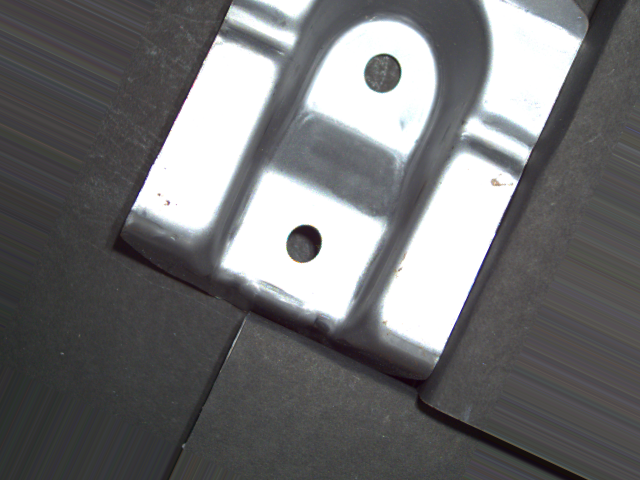defect: (361, 48, 404, 98)
